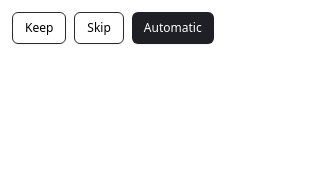
Test case: Optional selection review › saves keep/skip feedback without starting another pipeline
Click the button "Skip".
click(99, 28)  # box [74,12,124,44]
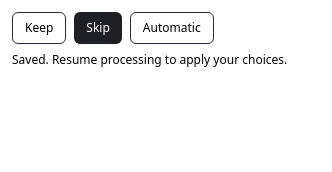
Now the text "Saved. Resume processing to apply your choices." is shown, box [12,51,287,68]
